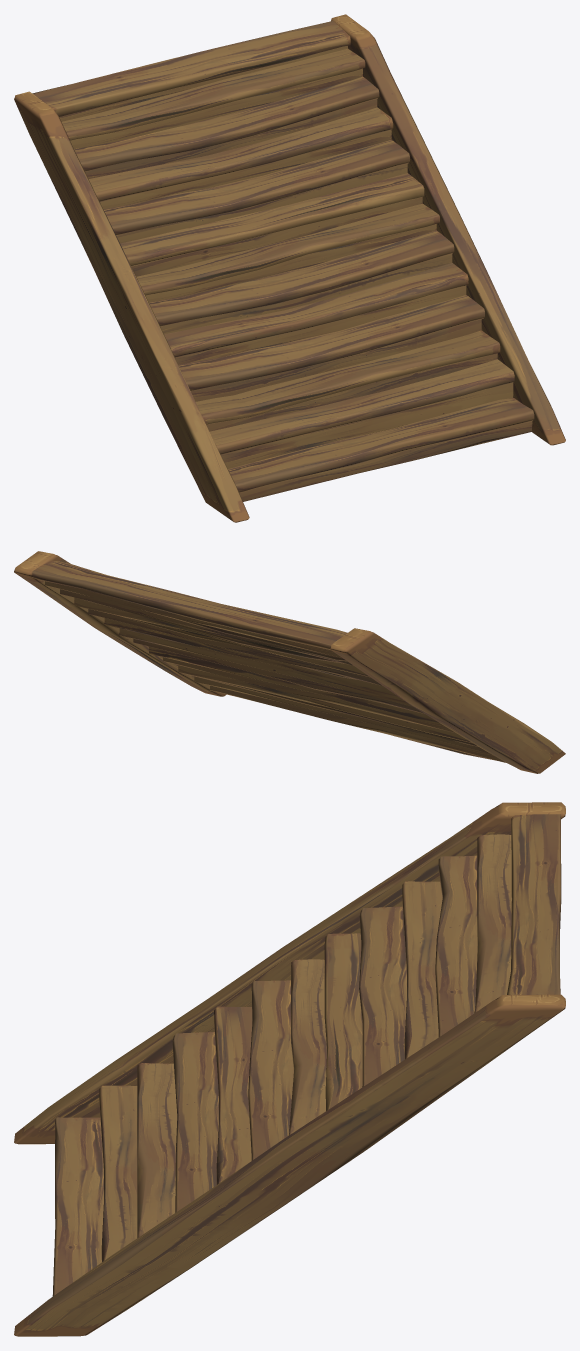
File: SM_MOD_stairs_town_02_01.fbx
3 views of the same model, one above another, from view 1: azimuth 30°, elevation 25°; view 2: azimuth 150°, elevation 25°; view 3: azimuth 270°, elevation 25° (orthographic). The views are drawn at different scales.
Visible parts, largest first — view 1: SM_MOD_stairs_town_02_01_LOD0; view 2: SM_MOD_stairs_town_02_01_LOD0; view 3: SM_MOD_stairs_town_02_01_LOD0.
Boxes of the visible parts, x1,y1,x2,y2 form: SM_MOD_stairs_town_02_01_LOD0: [14, 14, 565, 522]; SM_MOD_stairs_town_02_01_LOD0: [14, 551, 565, 773]; SM_MOD_stairs_town_02_01_LOD0: [14, 802, 565, 1336].
Size of what is drawn, in the model's own units: 399 by 304 by 457.
